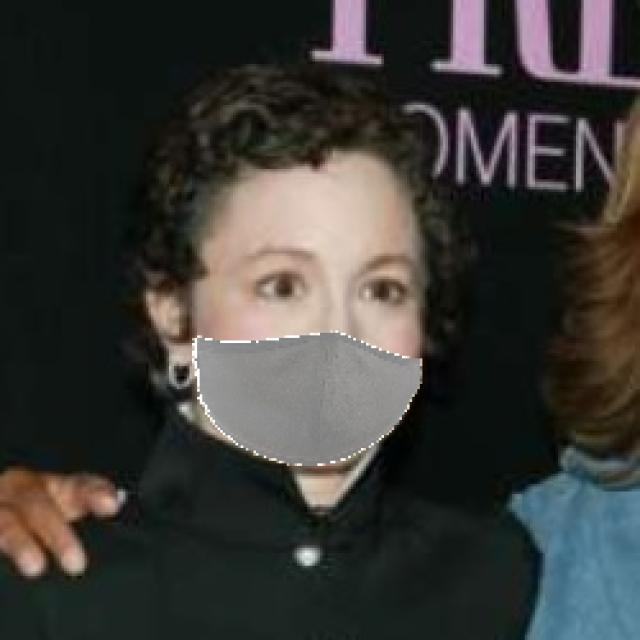mask: (181, 310, 420, 493)
